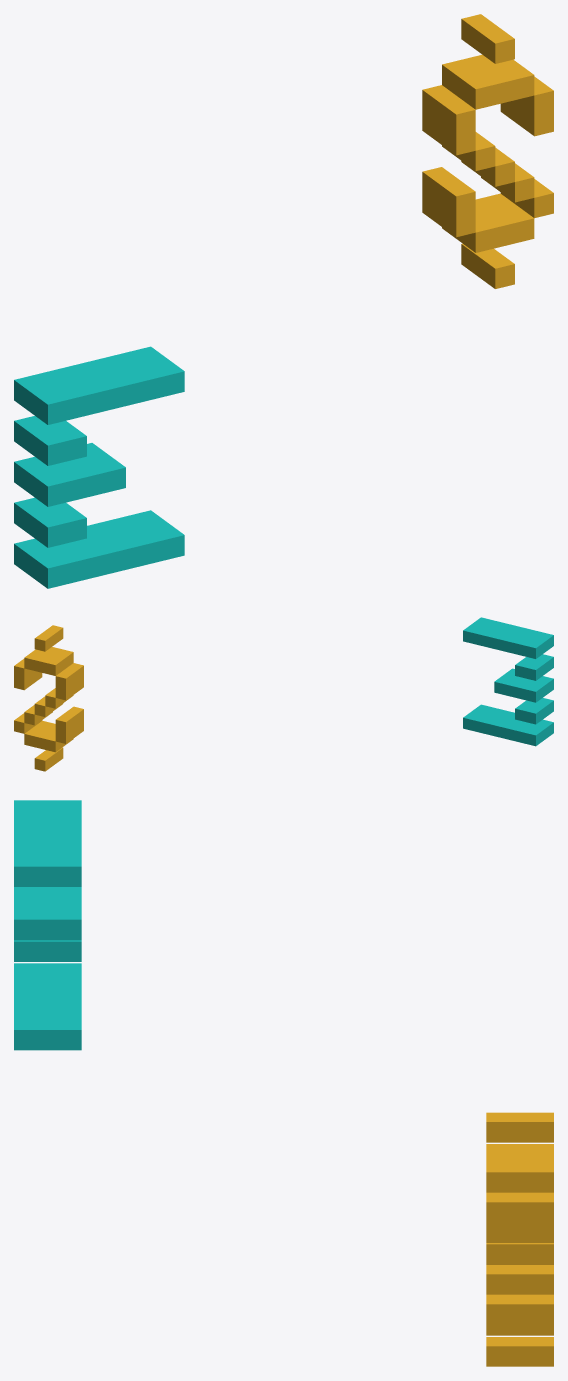
The model's file is Gold.obj.
The picture shows the model from 3 angles, top to bottom: view 1: azimuth 30°, elevation 25°; view 2: azimuth 150°, elevation 25°; view 3: azimuth 270°, elevation 25°; orthographic projection. The views are drawn at different scales.
Size of the model in its own units: 3.8 by 1.2 by 2.4.
1 material, 1 textured.
